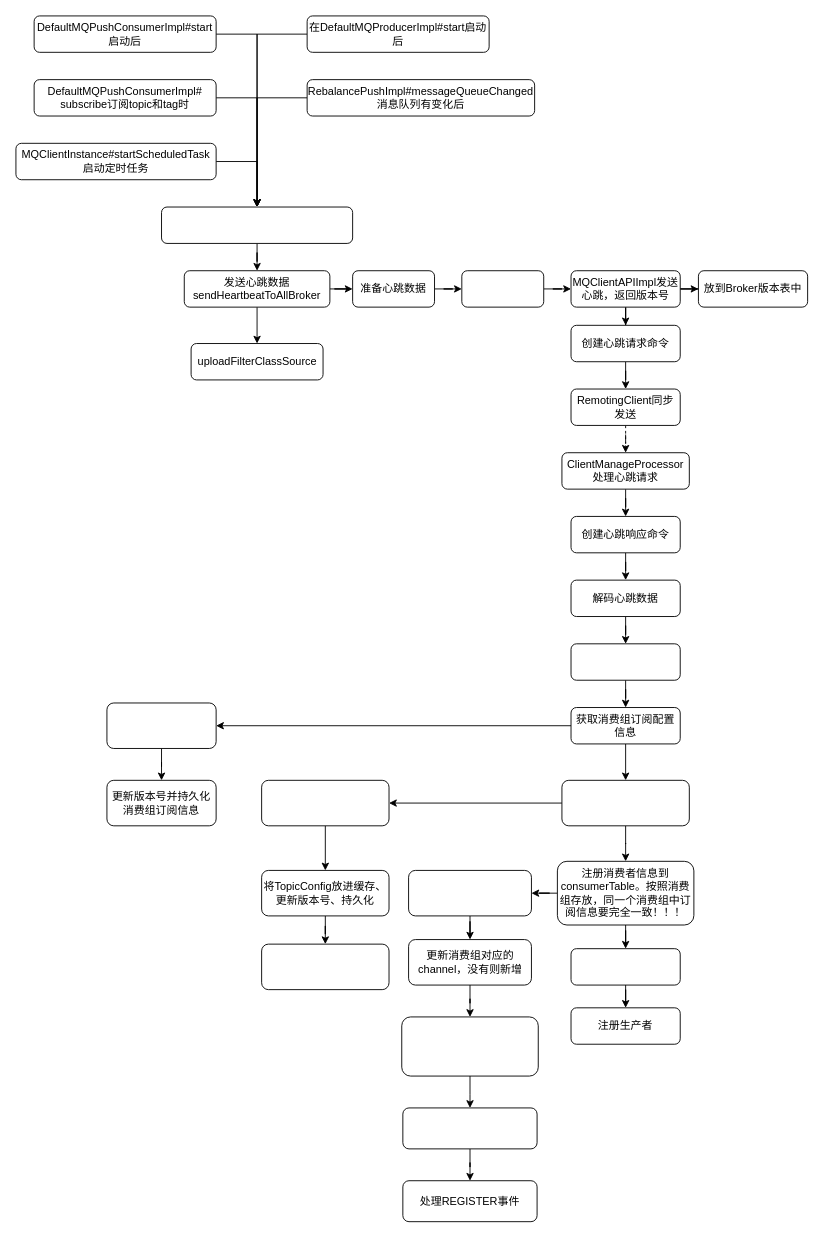
The diagram is 824 pixels wide and 1238 high, and some of its shapes have lost their labels. Here are the shapes that lost their labels. From the top down, the box of each, then its label:
(161, 206, 353, 243): 发送心跳数据 sendHeartbeatToAllBrokerWithLock
(461, 270, 544, 307): 遍历每个Broker发送心跳
(570, 643, 680, 680): 遍历消费者数据处理
(106, 702, 216, 748): 从缓存中获取，如果不存在就新建消费者组订阅信息
(261, 779, 389, 826): 从缓存查找TopicConfig，有的话直接返回，没有的话新建TopicConfig
(561, 779, 689, 826): 注册重试队列，向Nameserver广播请求更新路由信息
(408, 870, 531, 916): 从缓存中获取消费组信息
(261, 943, 389, 990): 向Nameserver广播，请求更新路由信息
(570, 948, 680, 985): 遍历生产者数据处理
(401, 1016, 538, 1076): 更新订阅信息，跟订阅表中进行对比。订阅信息按照消费组存放，同一个消费组中订阅信息要完全一致！！！
(402, 1107, 537, 1149): 通知所有消费者有变化，可以进行rebalance
